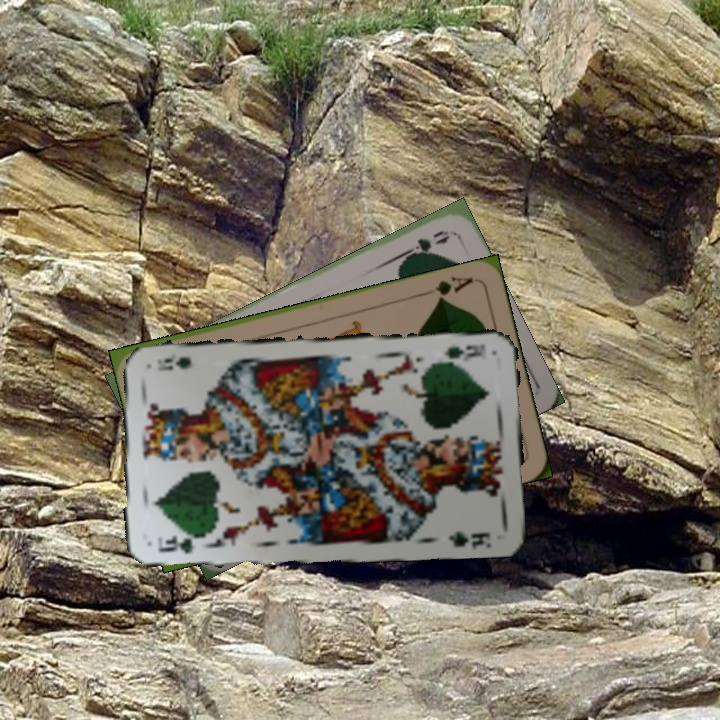GA: (419, 272, 476, 304)
GK: (434, 340, 488, 365), (154, 533, 208, 556)
GO: (396, 226, 453, 264)
